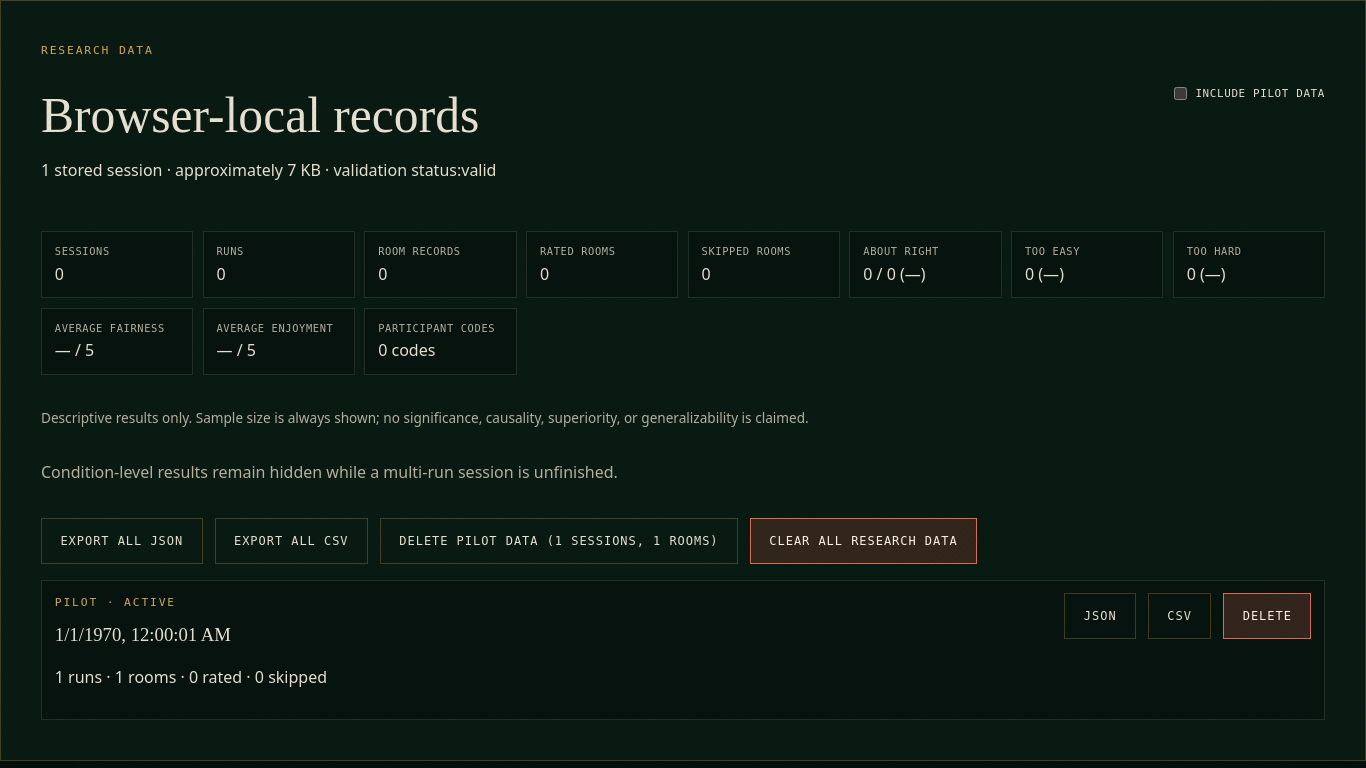
Test: Research data management panel › excludes Pilot data by default and exposes an explicit include toggle
The image size is (1366, 768).
Expected: the 1st text "0" is shown, 55,263 -> 64,285
Click the checkbox labelled "Include Pilot Data". click: (1181, 94)
box: 1174,87 -> 1187,100
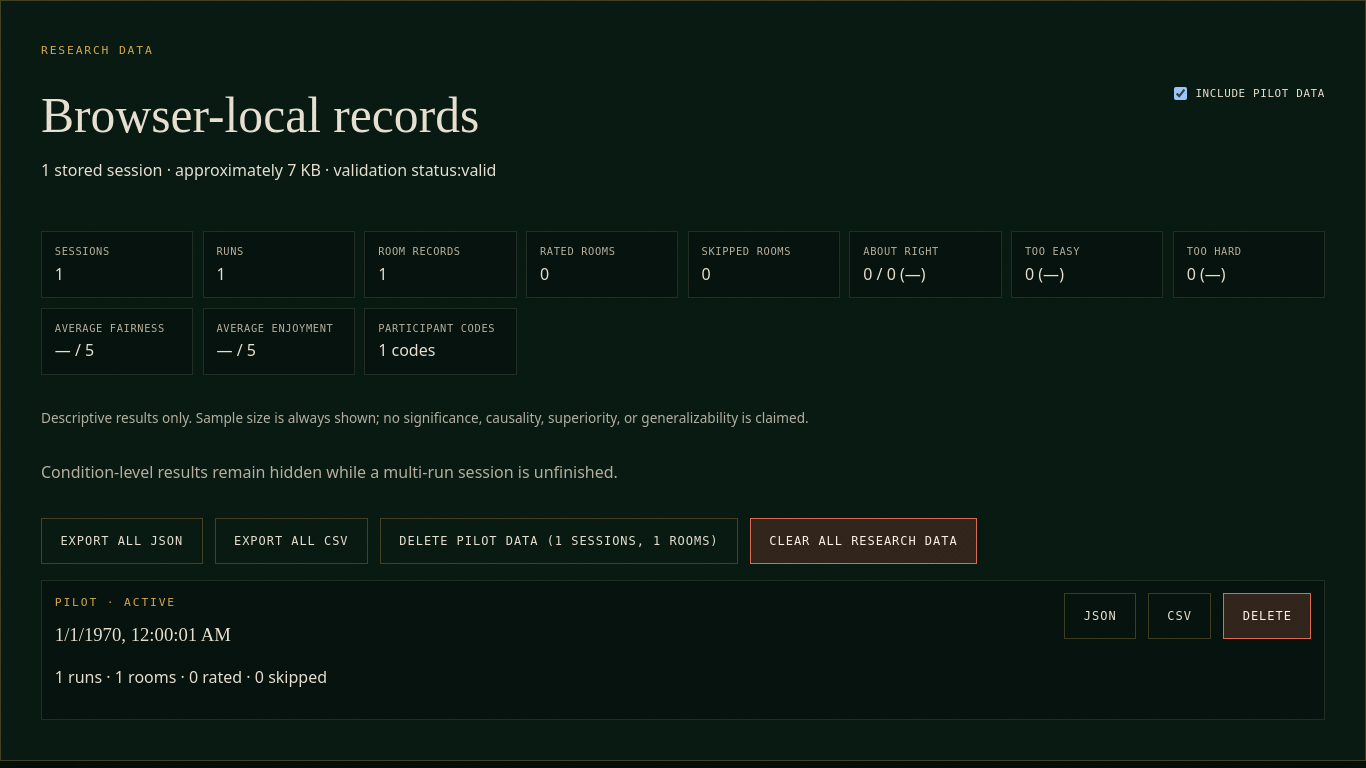
Expected: the 1st text "1" is shown, 55,263 -> 64,285
